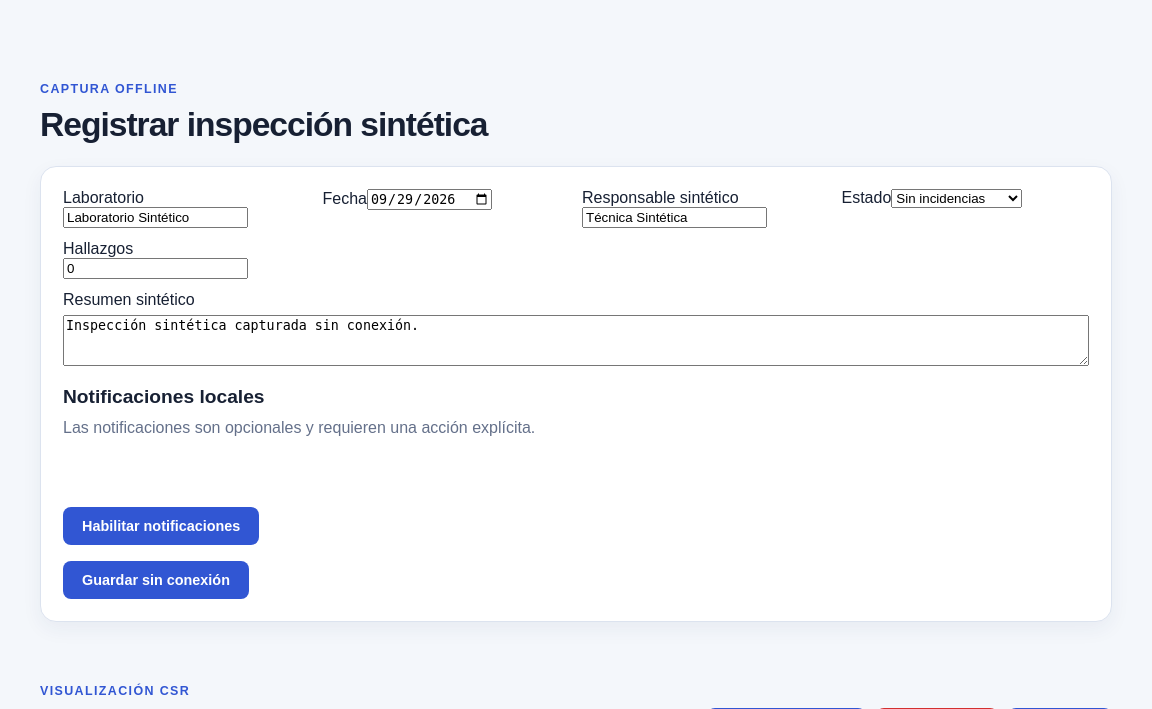
Test: integración de notificaciones en /inspecciones › no notifica cuando falla el guardado principal
Step 1. Click the button "Guardar sin conexión" → {"x": 156, "y": 580}, box [63,561,249,599]
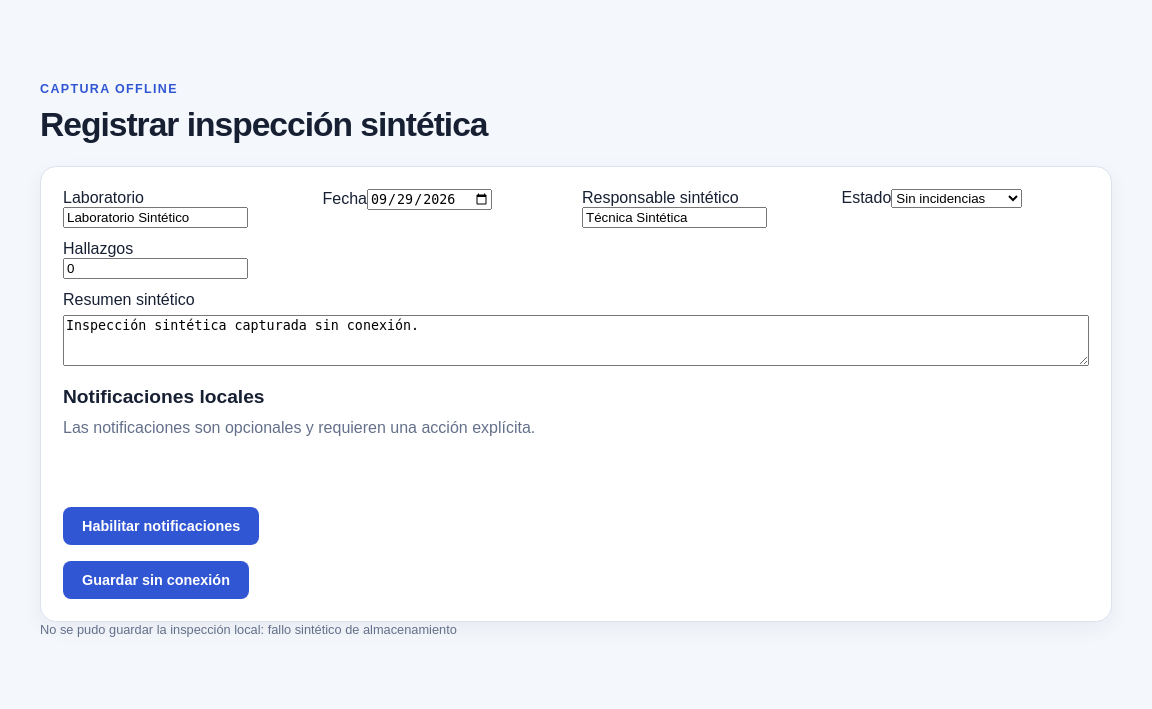
Result: the text "No se pudo guardar la inspección local" is shown at [40,622,457,637]
